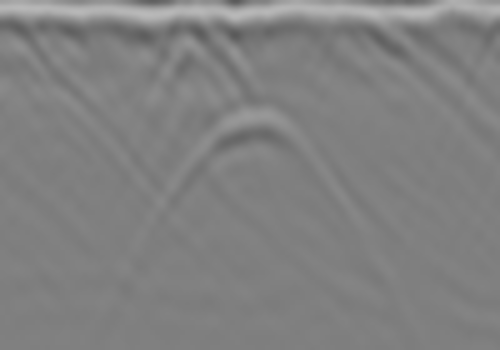hyperbola: (110, 103, 383, 306)
